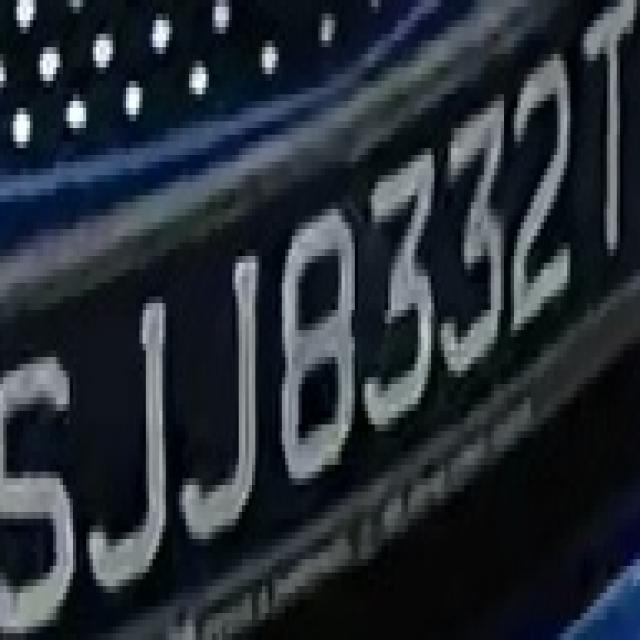2: (501, 47, 584, 344)
3: (428, 81, 517, 391), (355, 142, 438, 444)
8: (272, 209, 368, 492)
J: (73, 276, 179, 606), (176, 216, 265, 559)
S: (7, 323, 86, 613)
T: (573, 0, 640, 262)
